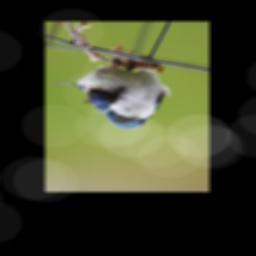Swallow: (51, 57, 171, 130)
